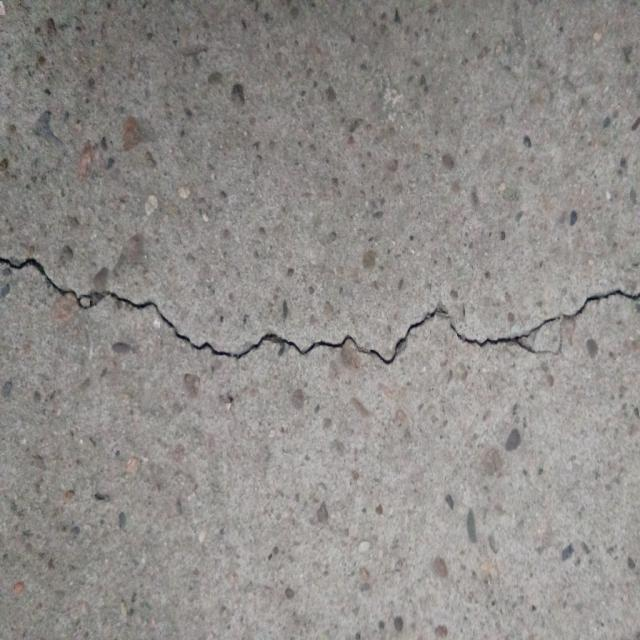cracks: (0, 218, 640, 383)
